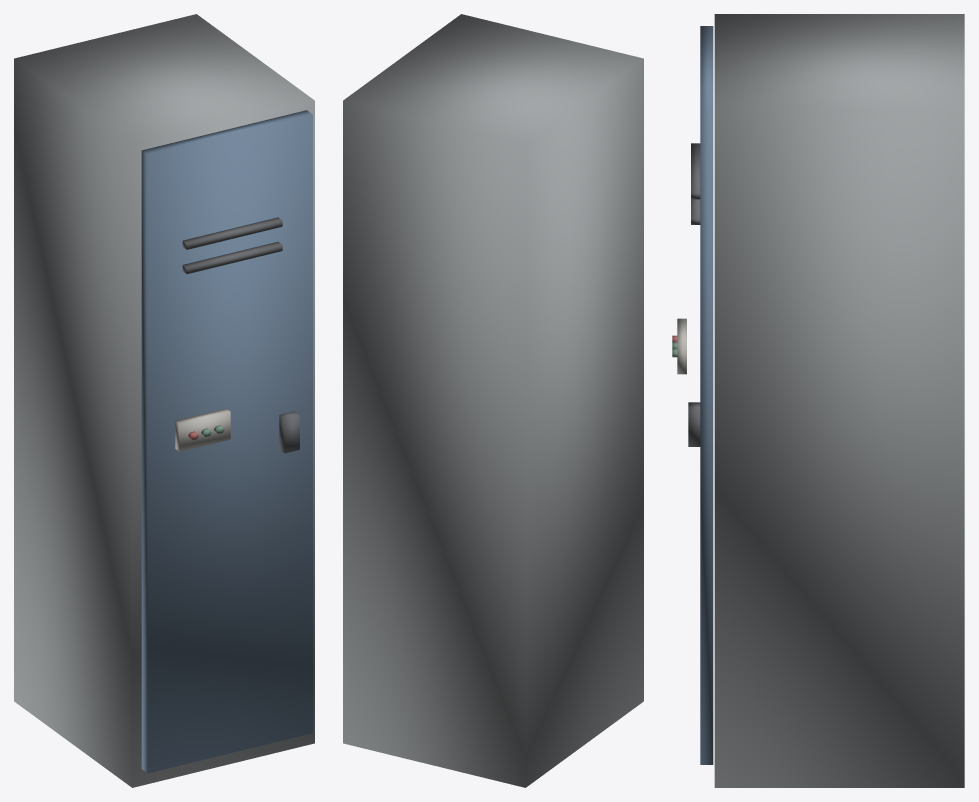
The model's file is single_locker__squat.glb.
3 renders of one model, left to right at view 1: azimuth 30°, elevation 25°; view 2: azimuth 150°, elevation 25°; view 3: azimuth 270°, elevation 25°, orthographic. The views are drawn at different scales.
Parts seen in each view (by area): view 1: world; view 2: world; view 3: world.
Boxes of the visible parts, <box> form: world: <box>14,14,314,787</box>; world: <box>343,14,643,787</box>; world: <box>672,14,964,787</box>.
Size of the model in its own units: 0.462 by 1.55 by 0.6059.
